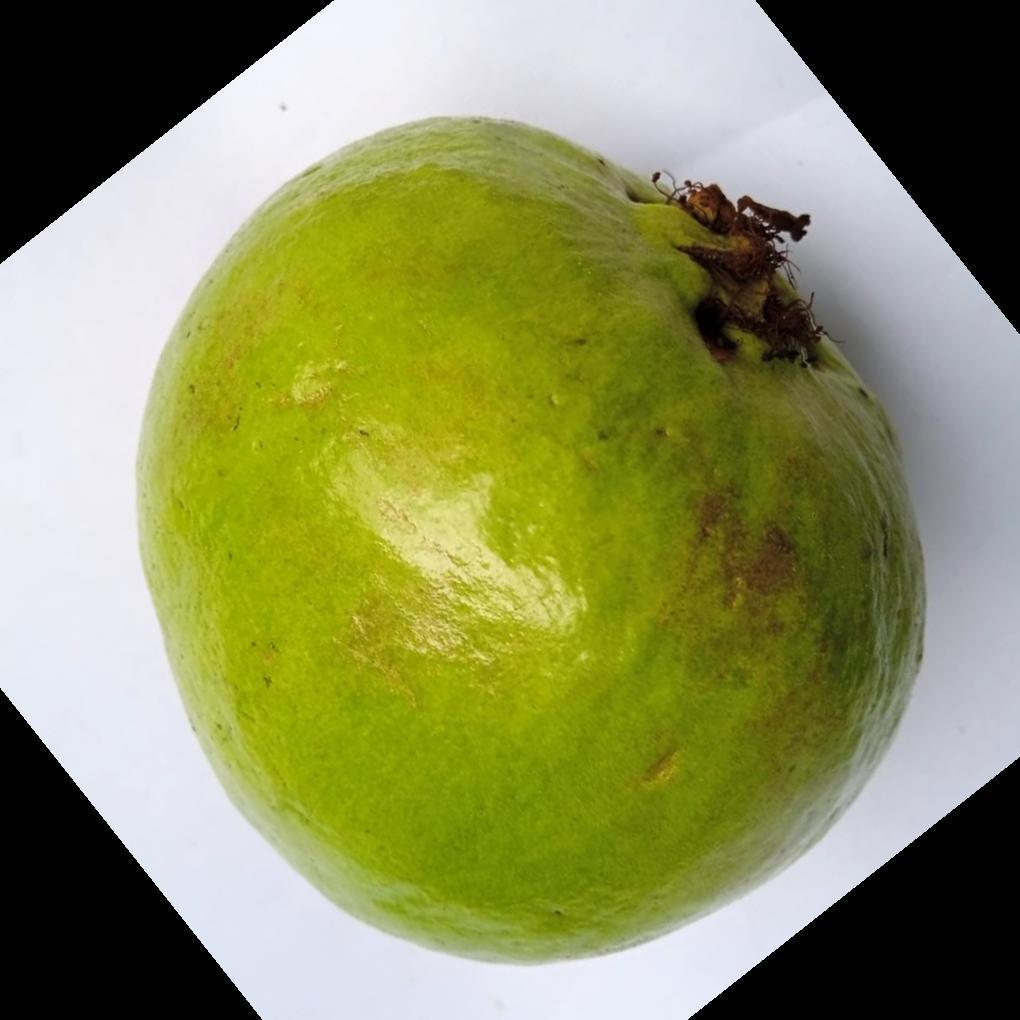FreshGuava: (132, 118, 929, 971)
